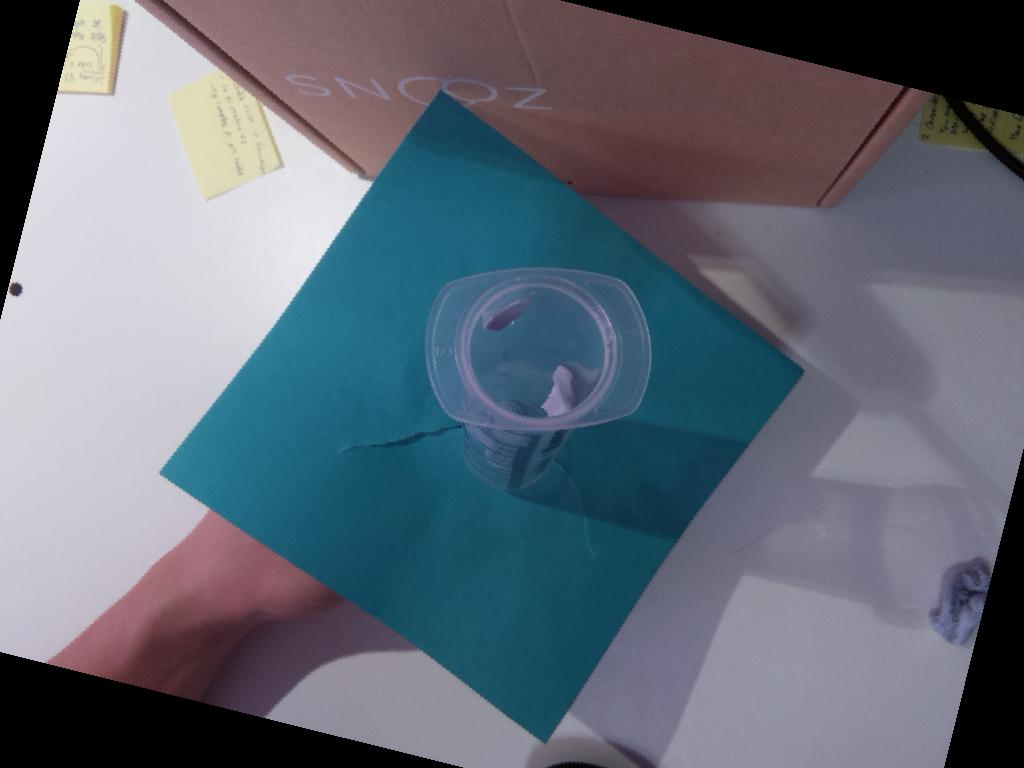dirty: (426, 265, 653, 426)
